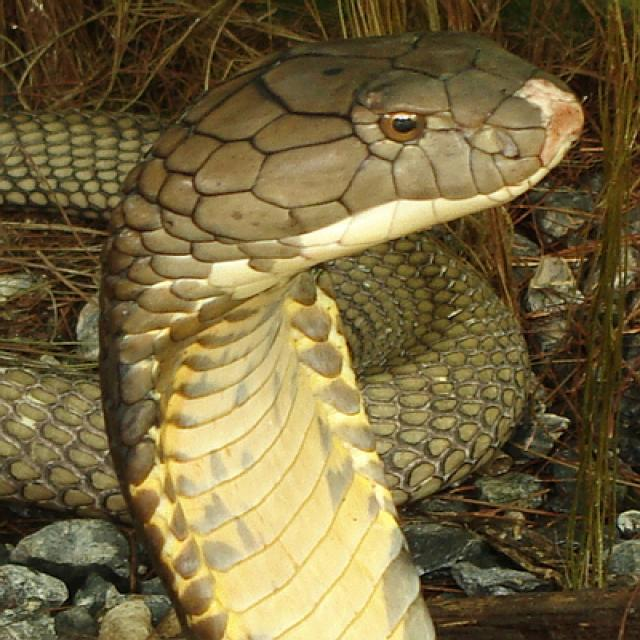Snake: (0, 21, 588, 639)
